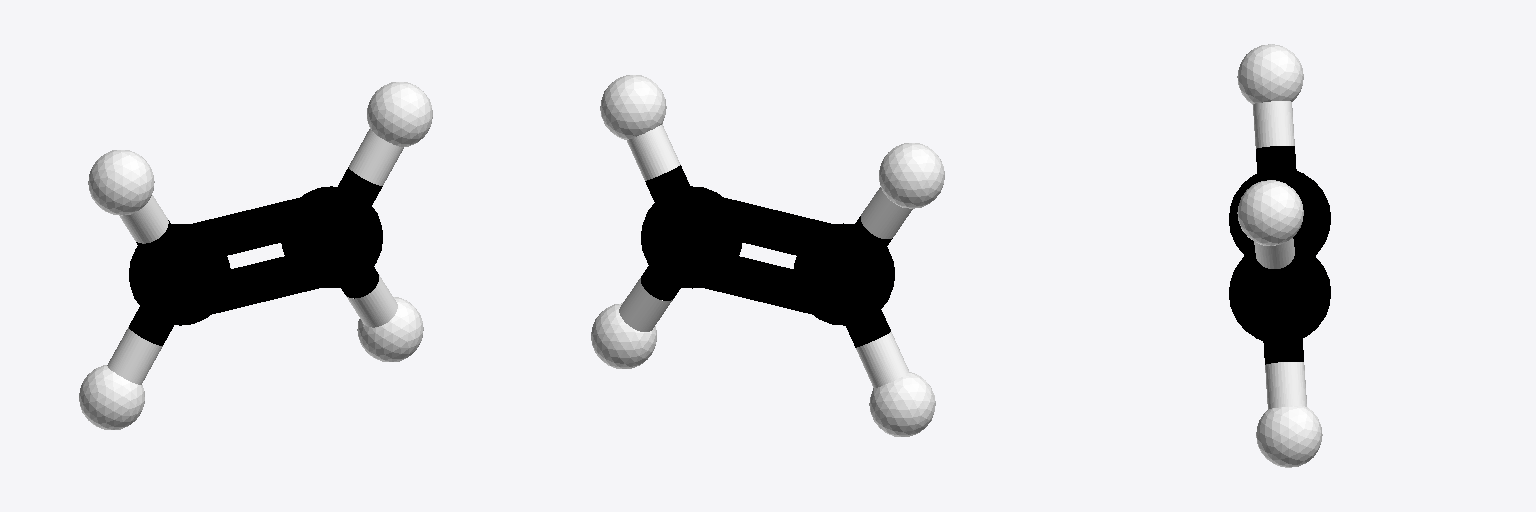
The model's file is eteno.obj.
3 renders of one model, left to right at view 1: azimuth 30°, elevation 25°; view 2: azimuth 150°, elevation 25°; view 3: azimuth 270°, elevation 25°, orthographic.
Parts seen in each view (by area): view 1: Shape_IndexedFaceSet.010_Shape_IndexedFaceSet.422, Shape_IndexedFaceSet.005_Shape_IndexedFaceSet.421; view 2: Shape_IndexedFaceSet.010_Shape_IndexedFaceSet.422, Shape_IndexedFaceSet.005_Shape_IndexedFaceSet.421; view 3: Shape_IndexedFaceSet.005_Shape_IndexedFaceSet.421, Shape_IndexedFaceSet.010_Shape_IndexedFaceSet.422.
Boxes of the visible parts, x1,y1,x2,y2 form: Shape_IndexedFaceSet.010_Shape_IndexedFaceSet.422: [129, 167, 382, 345]; Shape_IndexedFaceSet.005_Shape_IndexedFaceSet.421: [79, 82, 432, 429]; Shape_IndexedFaceSet.010_Shape_IndexedFaceSet.422: [641, 165, 894, 347]; Shape_IndexedFaceSet.005_Shape_IndexedFaceSet.421: [591, 75, 944, 436]; Shape_IndexedFaceSet.005_Shape_IndexedFaceSet.421: [1237, 44, 1322, 467]; Shape_IndexedFaceSet.010_Shape_IndexedFaceSet.422: [1229, 146, 1330, 364].
Bounding box in the file's own units: 21.21 × 17.01 × 5.63.